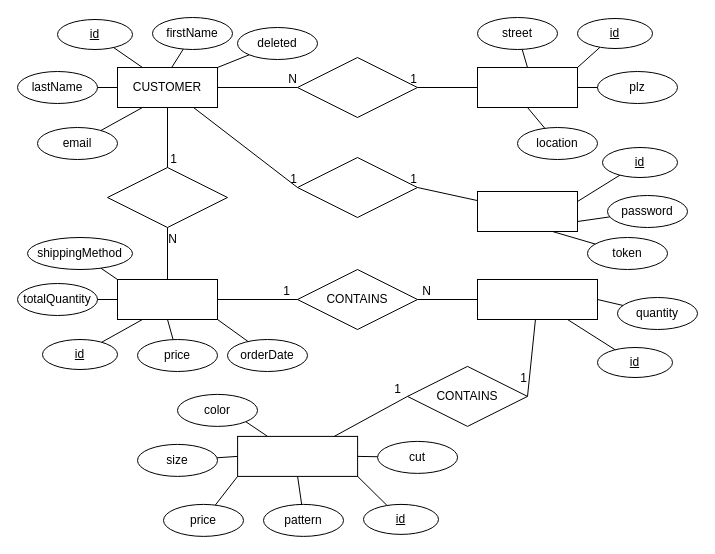
Some shapes in this 715 by 554 pixel diagram are drawn without their labels. The centre of each missing label's shape, as x and y in pixels:
ACCOUNT: [527,211]
ADDRESS: [527,87]
CONFIGURATION: [297,455]
HAS: [357,187]
LIVES_AT: [357,87]
ORDER: [167,299]
ORDERITEM: [537,299]
PLACES: [167,197]
